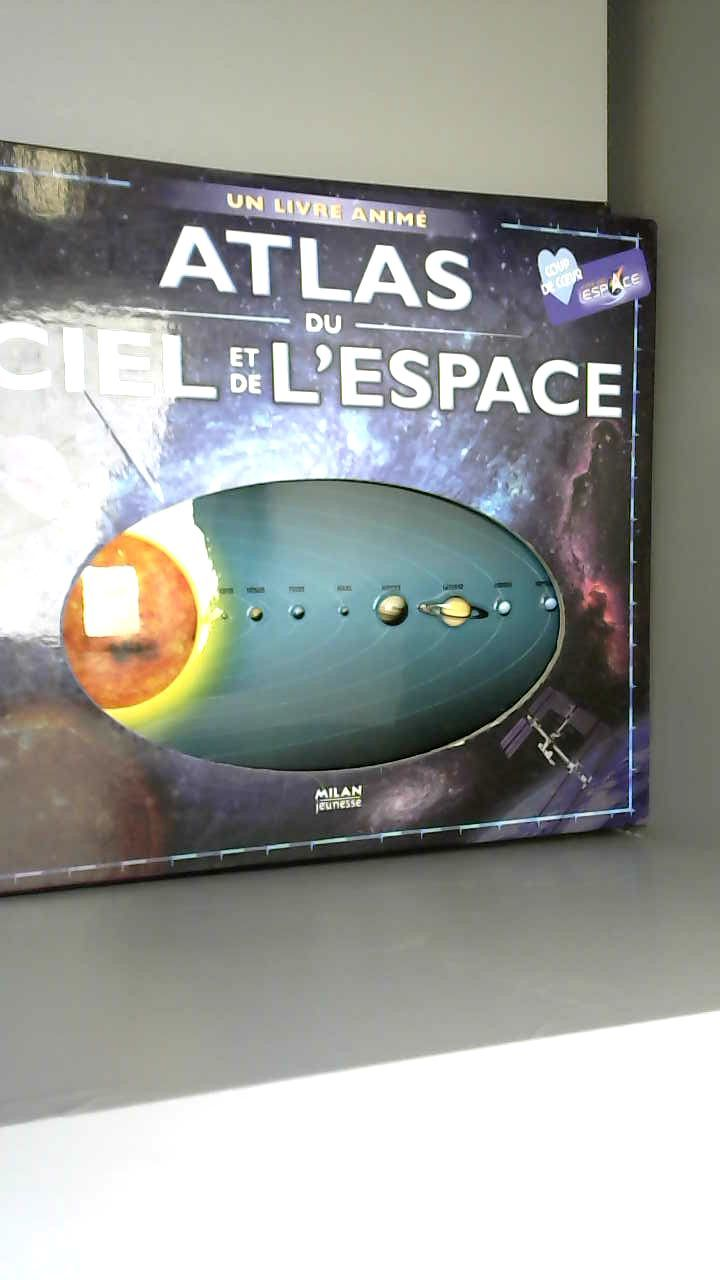book: (0, 132, 671, 905)
